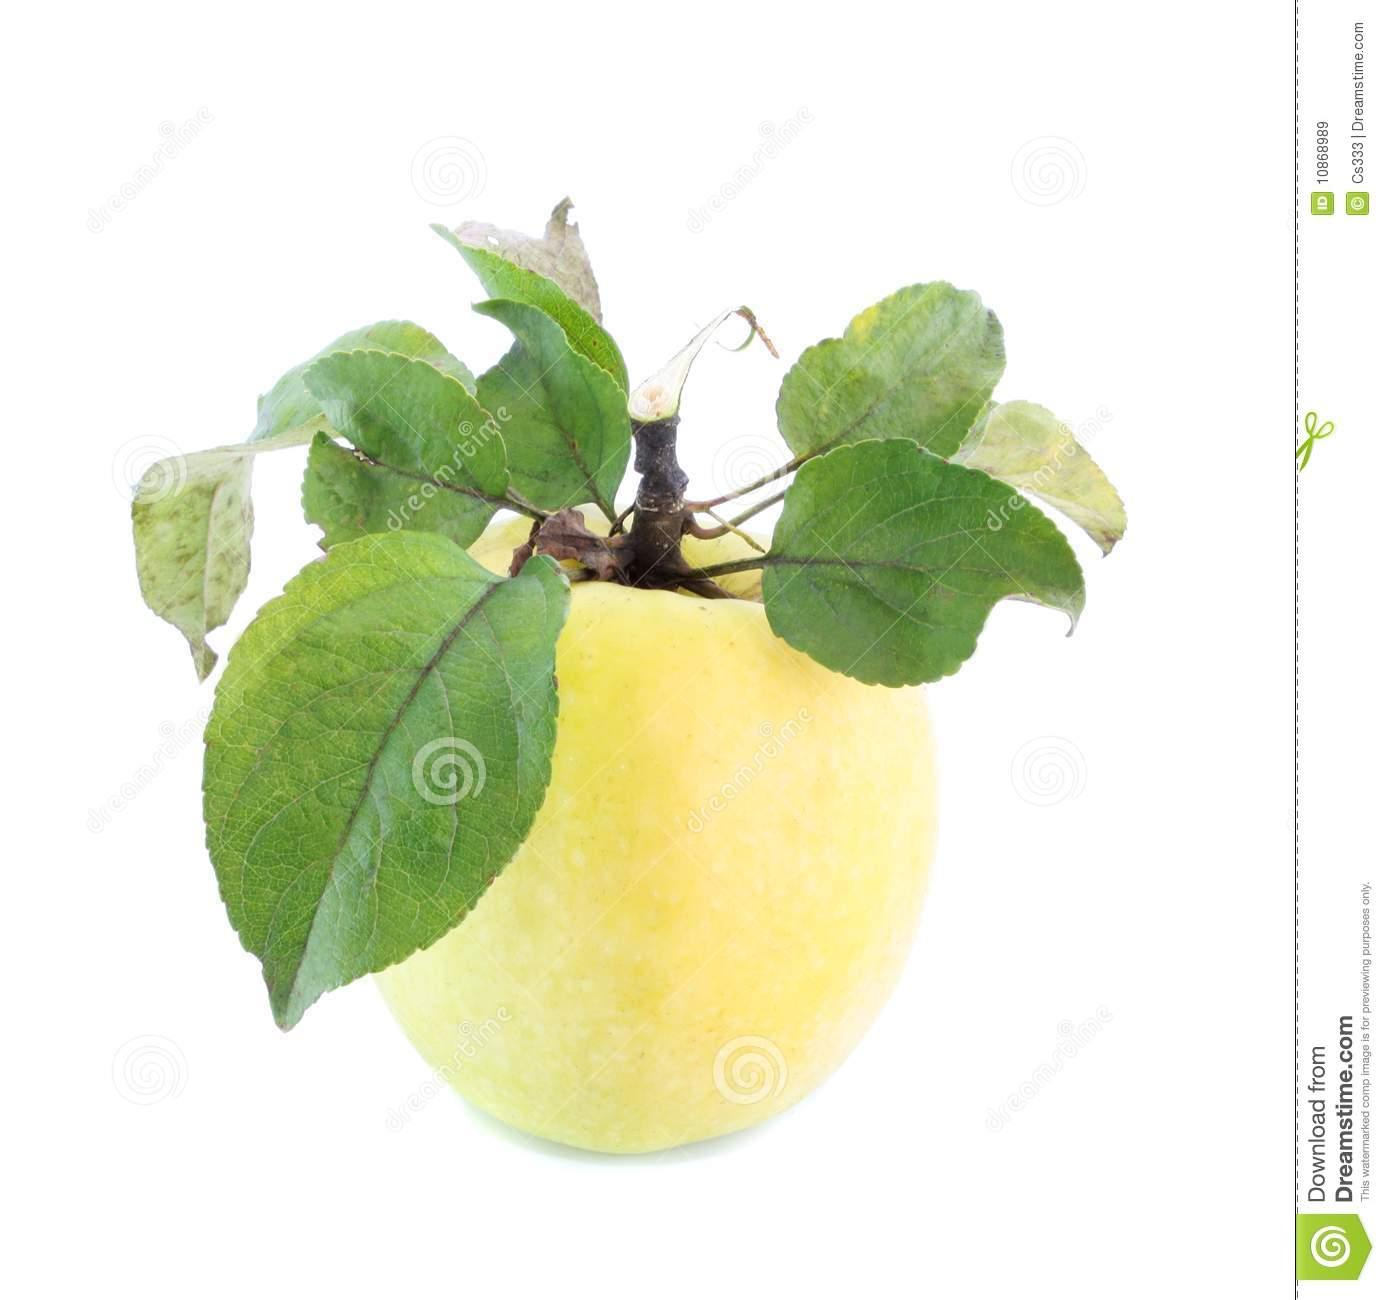Apple leaf: (188, 535, 568, 1074), (741, 425, 1165, 725), (274, 264, 685, 556)
